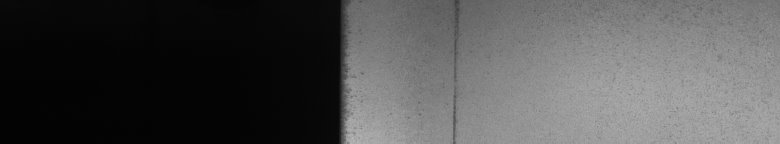hd: (448, 4, 472, 136)
